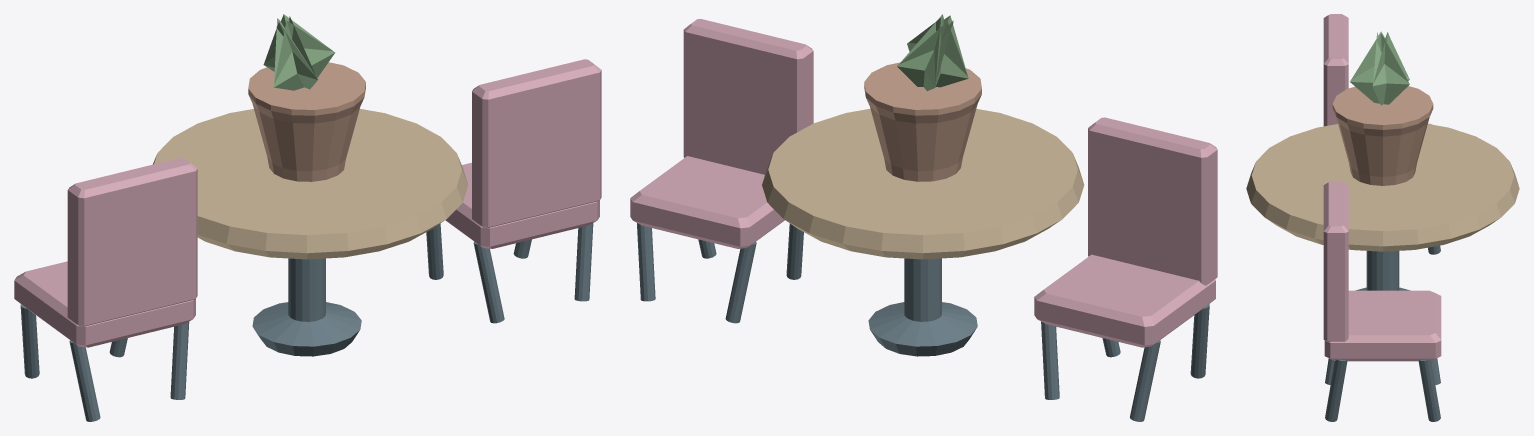
File: table_set.glb
The picture shows the model from 3 angles, left to right: view 1: azimuth 30°, elevation 25°; view 2: azimuth 150°, elevation 25°; view 3: azimuth 270°, elevation 25°; orthographic projection. The views are drawn at different scales.
Parts seen in each view (by area): view 1: table_set; view 2: table_set; view 3: table_set.
Boxes of the visible parts, x1=… form: table_set: x1=14, y1=14, x2=601, y2=421; table_set: x1=630, y1=14, x2=1217, y2=421; table_set: x1=1246, y1=14, x2=1519, y2=421.
Size of the model in its own units: 2.85 by 1.71 by 1.52.
